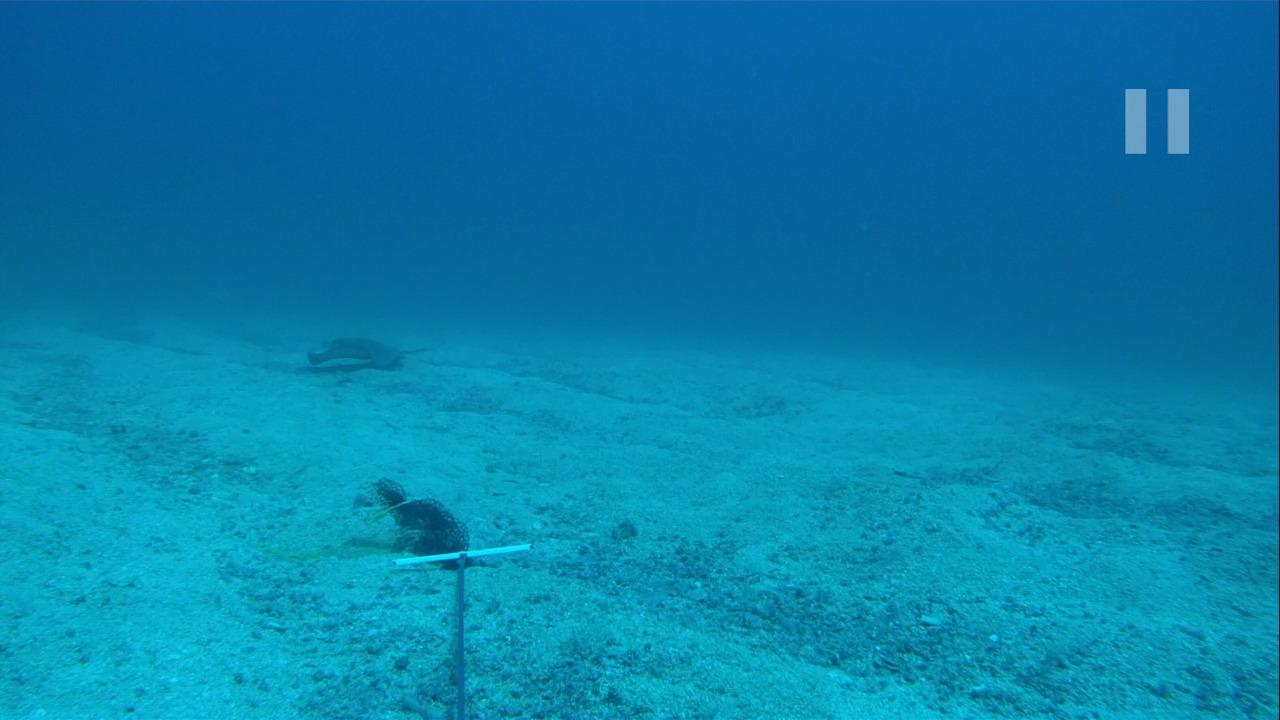myliobatis: (301, 328, 436, 373)
